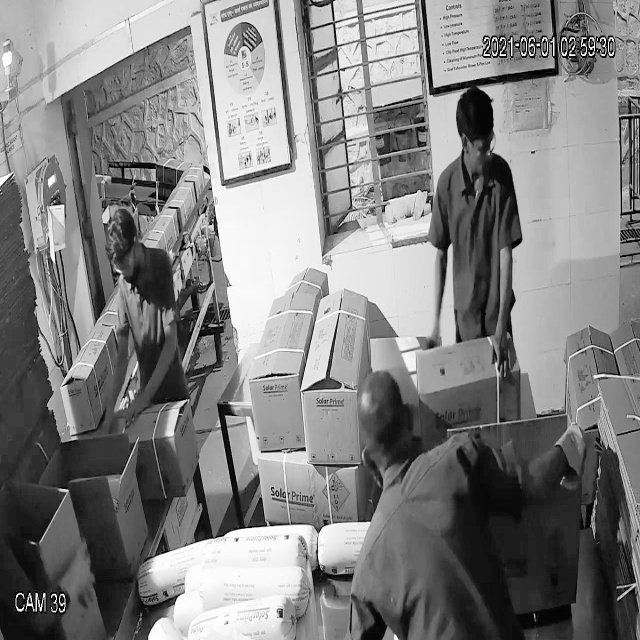Gafas: (459, 128, 501, 165)
